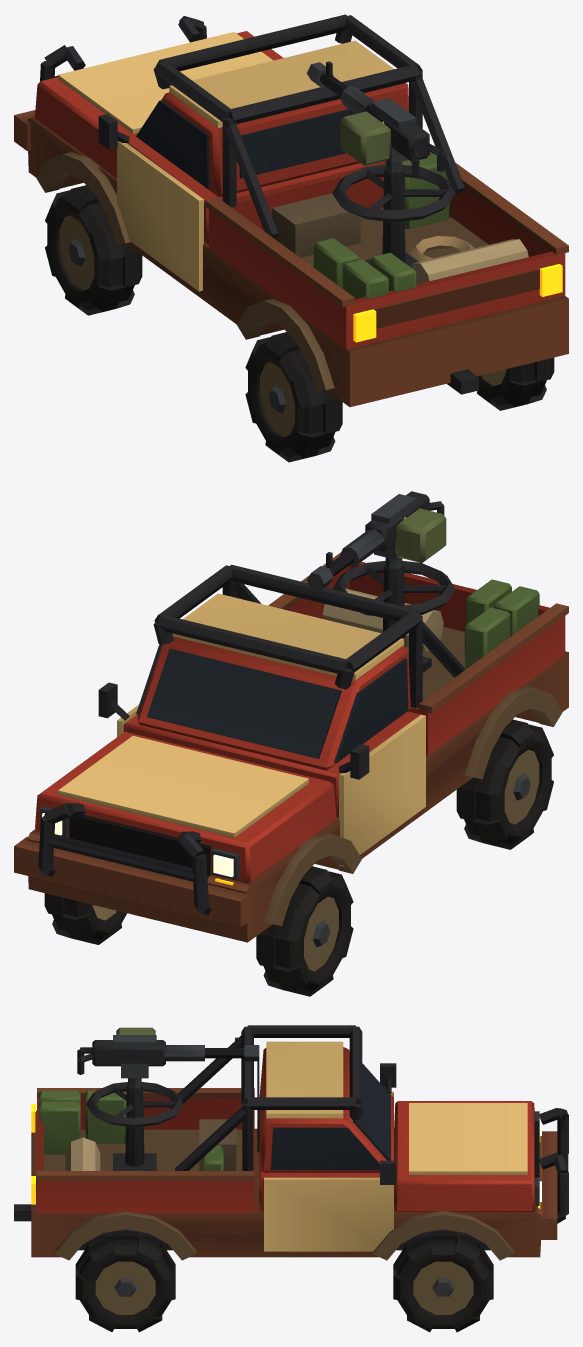
File: raider.glb
3 renders of one model, top to bottom at view 1: azimuth 30°, elevation 25°; view 2: azimuth 150°, elevation 25°; view 3: azimuth 270°, elevation 25°, orthographic. The views are drawn at different scales.
Parts seen in each view (by area): view 1: Body, Wheel_FL, Wheel_RL, Gun, Wheel_RR; view 2: Body, Wheel_RL, Wheel_FL, Gun, Wheel_FR; view 3: Body, Wheel_RR, Wheel_FR, Gun.
Part boxes in pixels (left/top/right/bottom): Body: left=14, top=14, right=568, bottom=407; Wheel_FL: left=45, top=185, right=142, bottom=315; Wheel_RL: left=245, top=332, right=342, bottom=462; Gun: left=306, top=61, right=444, bottom=177; Wheel_RR: left=477, top=357, right=554, bottom=410; Body: left=14, top=552, right=568, bottom=942; Wheel_RL: left=456, top=719, right=553, bottom=849; Wheel_FL: left=256, top=866, right=353, bottom=996; Gun: left=307, top=491, right=446, bottom=590; Wheel_FR: left=44, top=893, right=126, bottom=944; Body: left=14, top=1025, right=568, bottom=1260; Wheel_RR: left=75, top=1231, right=175, bottom=1332; Wheel_FR: left=393, top=1231, right=493, bottom=1332; Gun: left=77, top=1027, right=259, bottom=1088.
Bounding box in the file's own units: 0.5071 × 0.5818 × 1.18.
